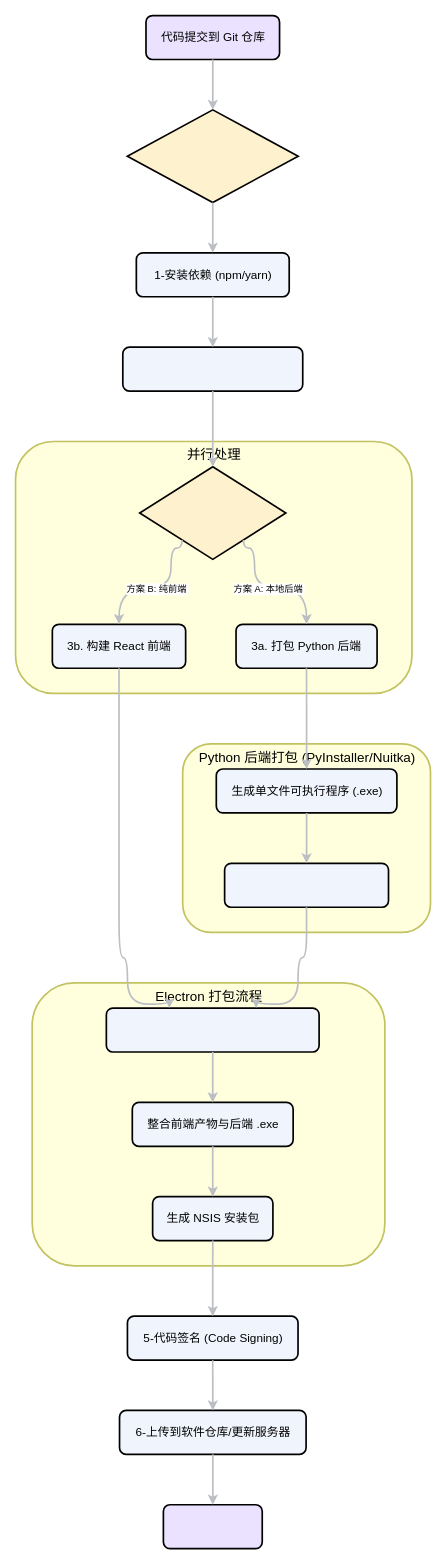
Image size: 445x1564. Some labels were removed from this diagram. The shapes that lost their labels are listed below. From the top down, each one's centre as x and y in pixels, then its label:
(212,156): 触发 CI/CD 流水线
(212,369): 2-代码质量检查 (Lint & Test)
(212,512): 打包策略选择
(306,885): 放置到 Electron 指定目录
(212,1029): 4-Electron 打包 (electron-builder)
(212,1526): 发布 Release
